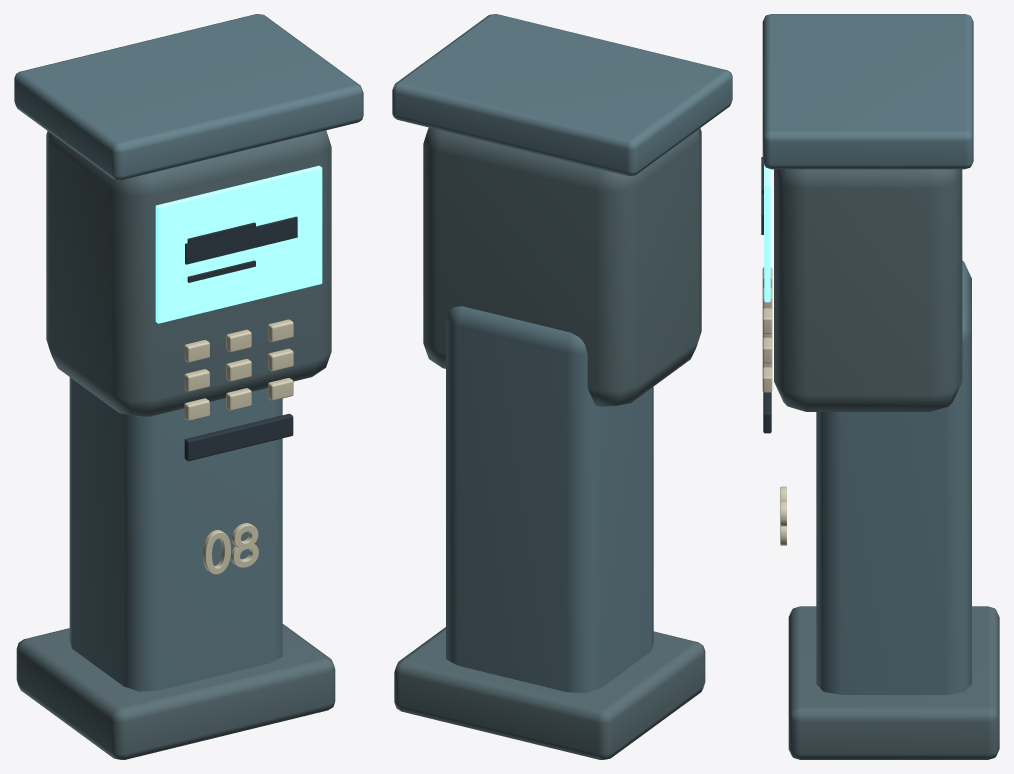
Rendered from terminal.glb.
3 views of the same model, side by side, from view 1: azimuth 30°, elevation 25°; view 2: azimuth 150°, elevation 25°; view 3: azimuth 270°, elevation 25° (orthographic). The views are drawn at different scales.
Parts seen in each view (by area): view 1: Blue, Steel, Cyan, Cream, Ink; view 2: Blue, Steel; view 3: Blue, Steel, Cream, Cyan, Ink.
Part boxes in pixels (x1=…): Blue: x1=14, y1=14, x2=363, y2=691; Steel: x1=16, y1=130, x2=335, y2=759; Cyan: x1=155, y1=165, x2=322, y2=323; Cream: x1=184, y1=319, x2=293, y2=574; Ink: x1=184, y1=216, x2=297, y2=461; Blue: x1=392, y1=14, x2=732, y2=693; Steel: x1=394, y1=127, x2=705, y2=759; Blue: x1=762, y1=14, x2=973, y2=694; Steel: x1=774, y1=169, x2=999, y2=759; Cream: x1=762, y1=267, x2=786, y2=545; Cyan: x1=764, y1=165, x2=770, y2=302; Ink: x1=761, y1=157, x2=771, y2=433.
Bounding box in the file's own units: 0.9 × 2.16 × 0.734.
